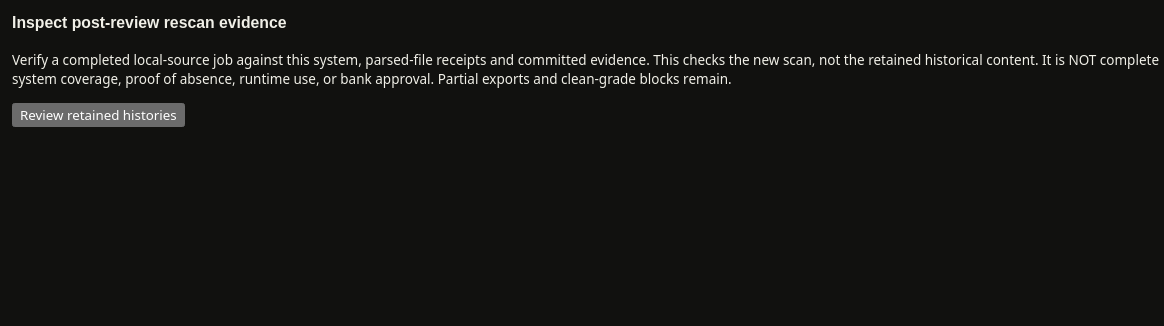
Test: Retained-source rescan inspection › handles blocked or unavailable proof without inventing a clearance
Click the button "Review retained histories" at (98, 115), box [12,103,185,127]
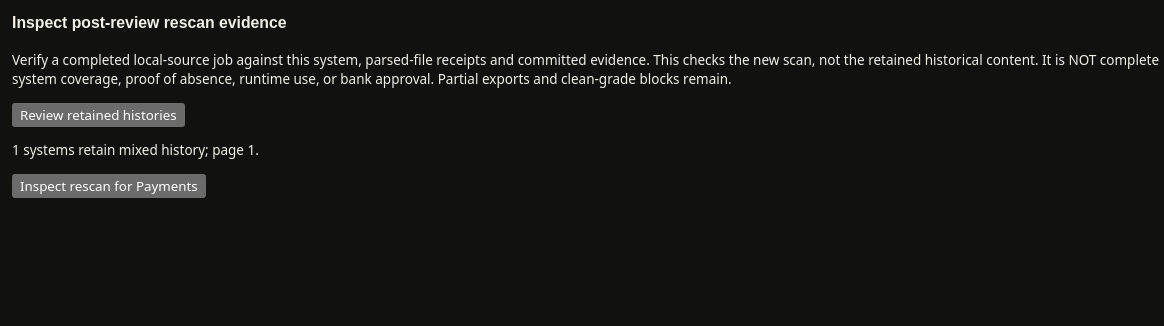
Click the button "Inspect rescan for Payments" at (109, 186), box [12,174,206,198]
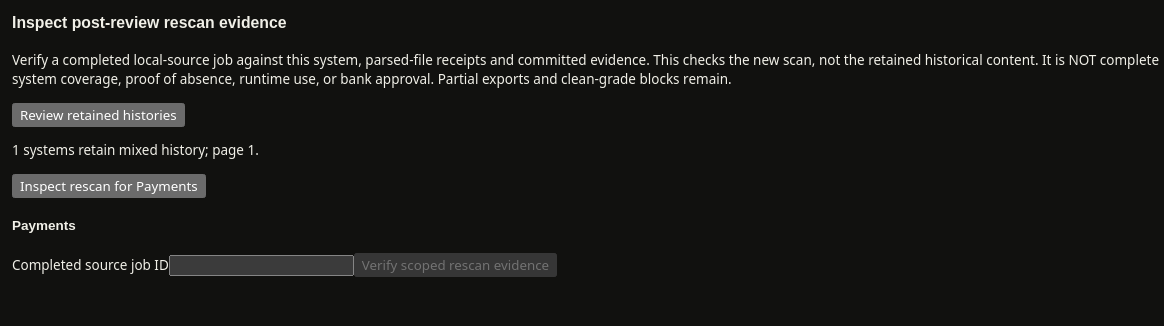
Type "job-a" into the field labelled "Completed source job ID" at (261, 266), box [169,255,354,276]
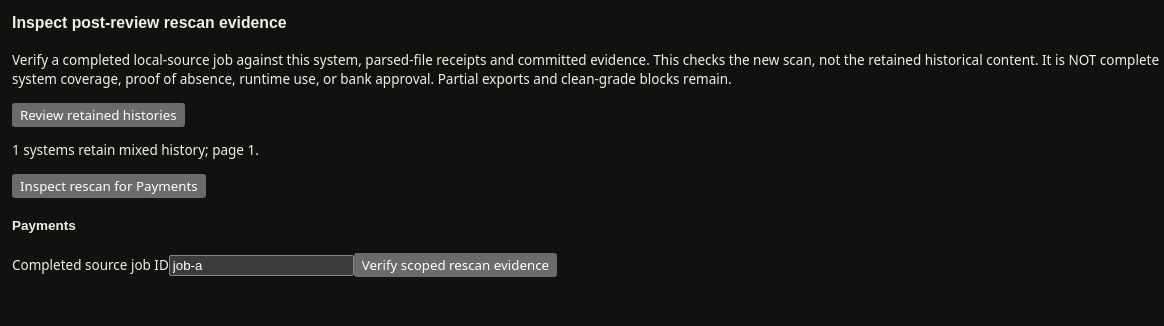
Click the button "Verify scoped rescan evidence" at (455, 265), box [354,253,557,277]
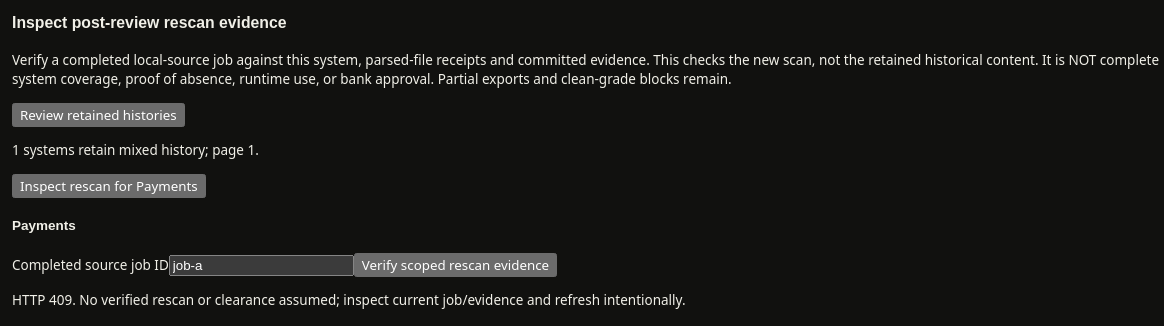
expect the text "No verified rescan or clearance assumed" is shown: met, box [12,291,686,309]
